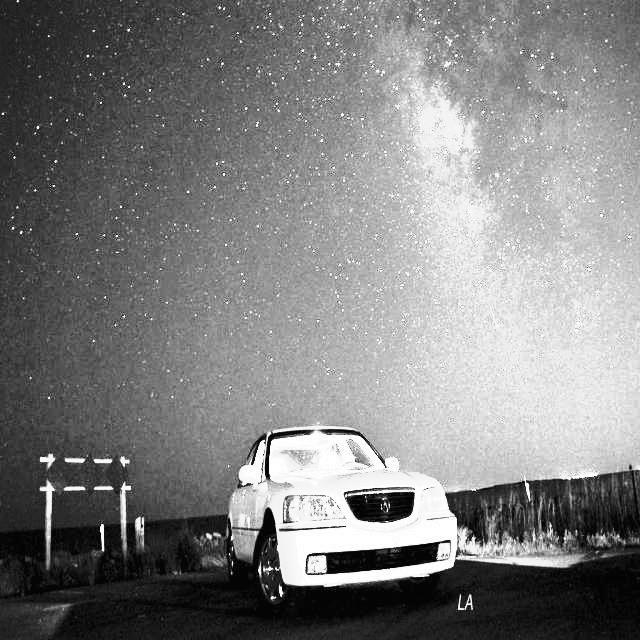Car: (223, 425, 478, 604)
